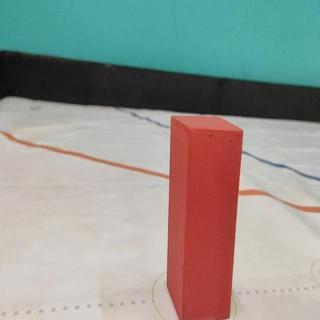redbox: (167, 112, 244, 320)
